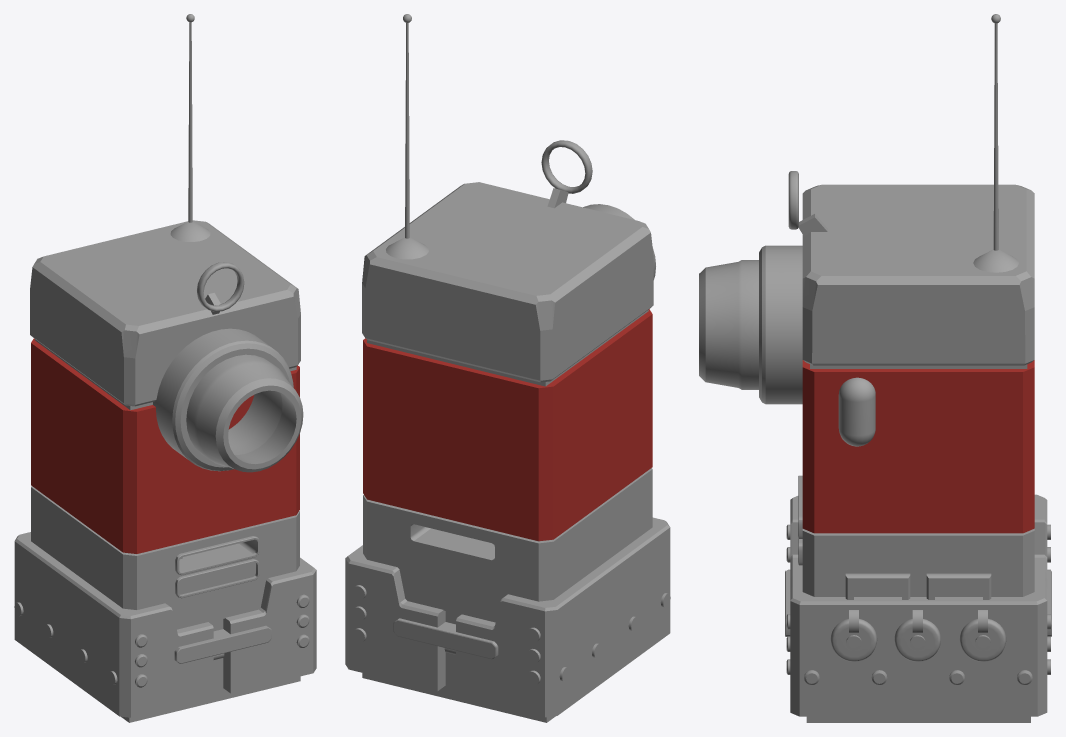
File: turret.fbx
The picture shows the model from 3 angles, left to right: view 1: azimuth 30°, elevation 25°; view 2: azimuth 150°, elevation 25°; view 3: azimuth 270°, elevation 25°; orthographic projection. The views are drawn at different scales.
Visible parts, largest first — view 1: pCube2, pCube3, pCube1, polySurface4, pPipe13, pCube6, pPipe14, pCube22, pCube7, pPipe18, polySurface8, polySurface9 (+2 smaller); view 2: pCube3, pCube2, pCube1, polySurface4, pCube6, pCube23, pCube7, pPipe18, pCylinder4, pCube5, pCone12; view 3: pCube2, pCube3, pCube6, polySurface4, pPipe13, pPipe14, pCylinder11 (×3), pCylinder30, pCube1, pCube7, pCylinder4, polySurface6 (+4 smaller).
Part boxes in pixels (box(x1,y1,x2,y2)): pCube2: box(30, 220, 300, 406); pCube3: box(31, 338, 299, 553); pCube1: box(14, 532, 213, 717); polySurface4: box(31, 486, 299, 629); pPipe13: box(186, 354, 303, 472); pCube6: box(223, 557, 316, 693); pPipe14: box(153, 328, 293, 471); pCube22: box(174, 625, 271, 663); pCube7: box(121, 619, 300, 722); pPipe18: box(197, 262, 244, 311); polySurface8: box(175, 536, 259, 575); polySurface9: box(175, 559, 259, 598); pCube3: box(363, 309, 652, 541); pCube2: box(362, 182, 653, 382); pCube1: box(456, 517, 670, 717); polySurface4: box(363, 468, 652, 622); pCube6: box(345, 545, 445, 691); pCube23: box(393, 618, 498, 659); pCube7: box(362, 611, 555, 722); pPipe18: box(541, 140, 592, 193); pCylinder4: box(405, 23, 409, 238); pCube5: box(367, 310, 648, 386); pCone12: box(386, 237, 428, 259); pCube2: box(802, 184, 1034, 365); pCube3: box(802, 360, 1034, 533); pCube6: box(790, 576, 1047, 716); polySurface4: box(802, 528, 1034, 596); pPipe13: box(699, 260, 758, 389); pPipe14: box(759, 245, 802, 404); pCylinder11 (×3): box(830, 619, 1006, 661); pCylinder30: box(838, 377, 875, 446); pCube1: box(790, 494, 1047, 578); pCube7: box(806, 716, 1030, 722); pCylinder4: box(993, 23, 998, 250); polySurface6: box(845, 573, 910, 599).
Size of the model in its own units: 3.52 by 9.88 by 4.55.
